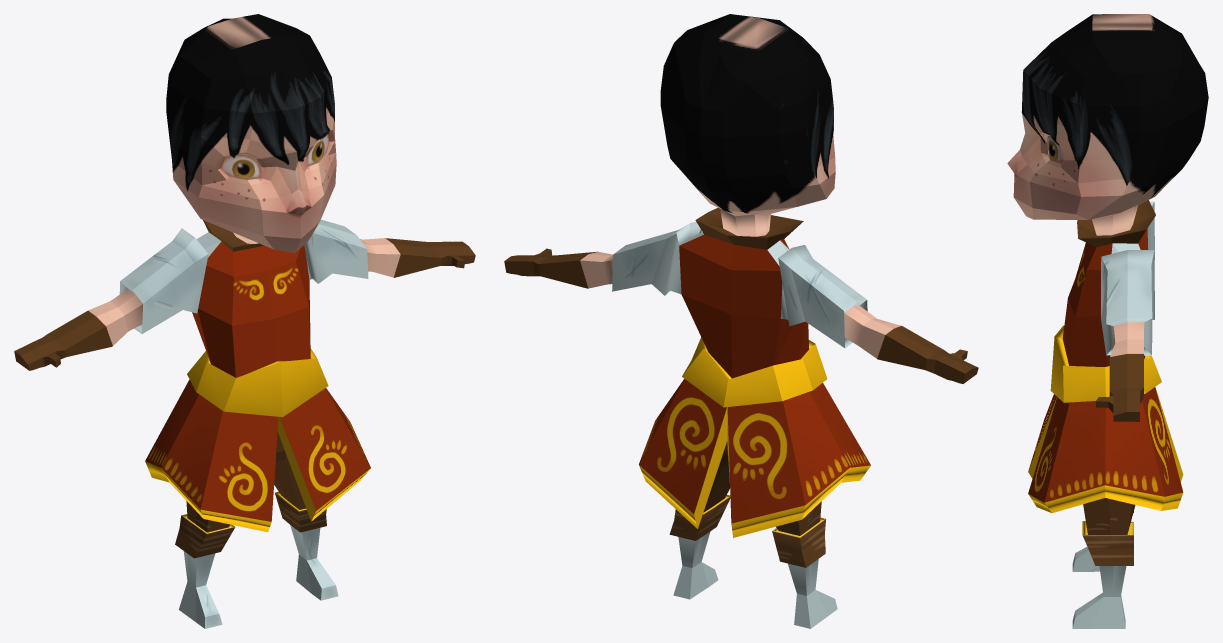
The model's file is npc-knight.fbx.
3 views of the same model, side by side, from view 1: azimuth 30°, elevation 25°; view 2: azimuth 150°, elevation 25°; view 3: azimuth 270°, elevation 25° (orthographic). The views are drawn at different scales.
Parts seen in each view (by area): view 1: knightnpc:body:body:polySurface33; view 2: knightnpc:body:body:polySurface33; view 3: knightnpc:body:body:polySurface33.
Boxes of the visible parts, x1,y1,x2,y2 form: knightnpc:body:body:polySurface33: [14, 14, 475, 628]; knightnpc:body:body:polySurface33: [504, 14, 978, 628]; knightnpc:body:body:polySurface33: [1007, 14, 1208, 628].
Size of the model in its own units: 1.31 by 1.57 by 0.5033.
Materials: 1 (1 with a texture image).
